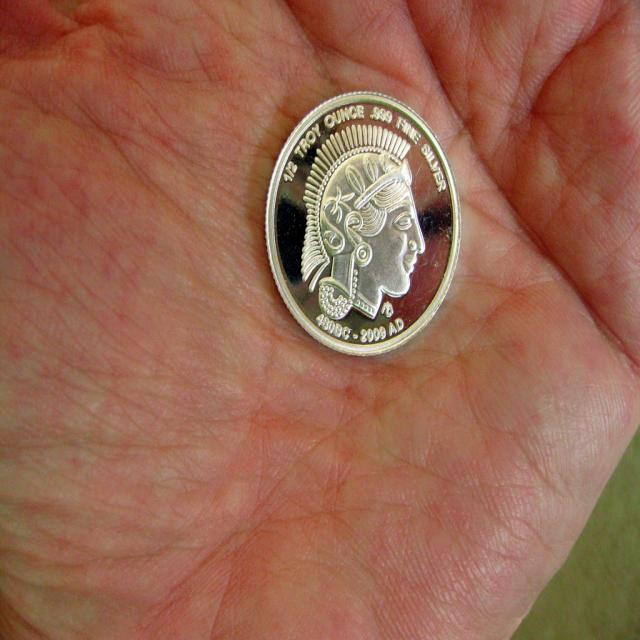Coin: (264, 87, 463, 358)
